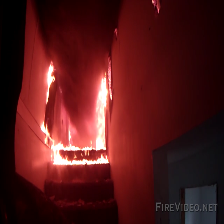fire_h: (52, 150, 109, 164), (97, 77, 107, 150), (51, 142, 94, 150)
fire_l: (47, 62, 55, 105), (41, 121, 53, 146), (108, 57, 113, 100), (152, 1, 160, 12), (68, 127, 71, 141), (114, 29, 118, 36)
